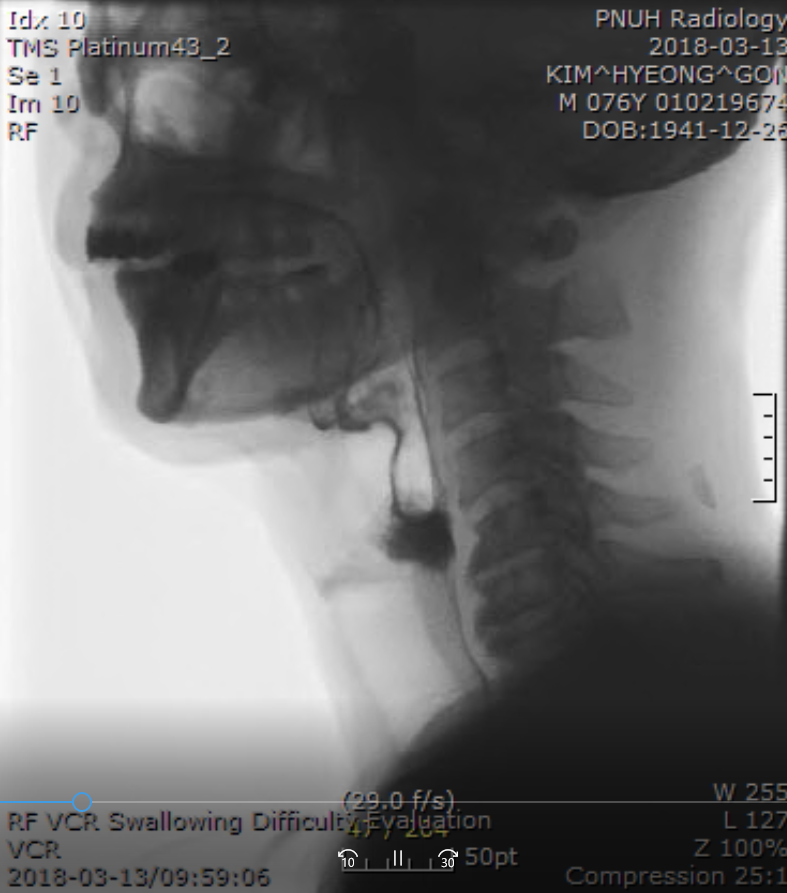dros: (386, 446, 440, 519)
food: (378, 494, 460, 572)
uros: (309, 380, 390, 440)
